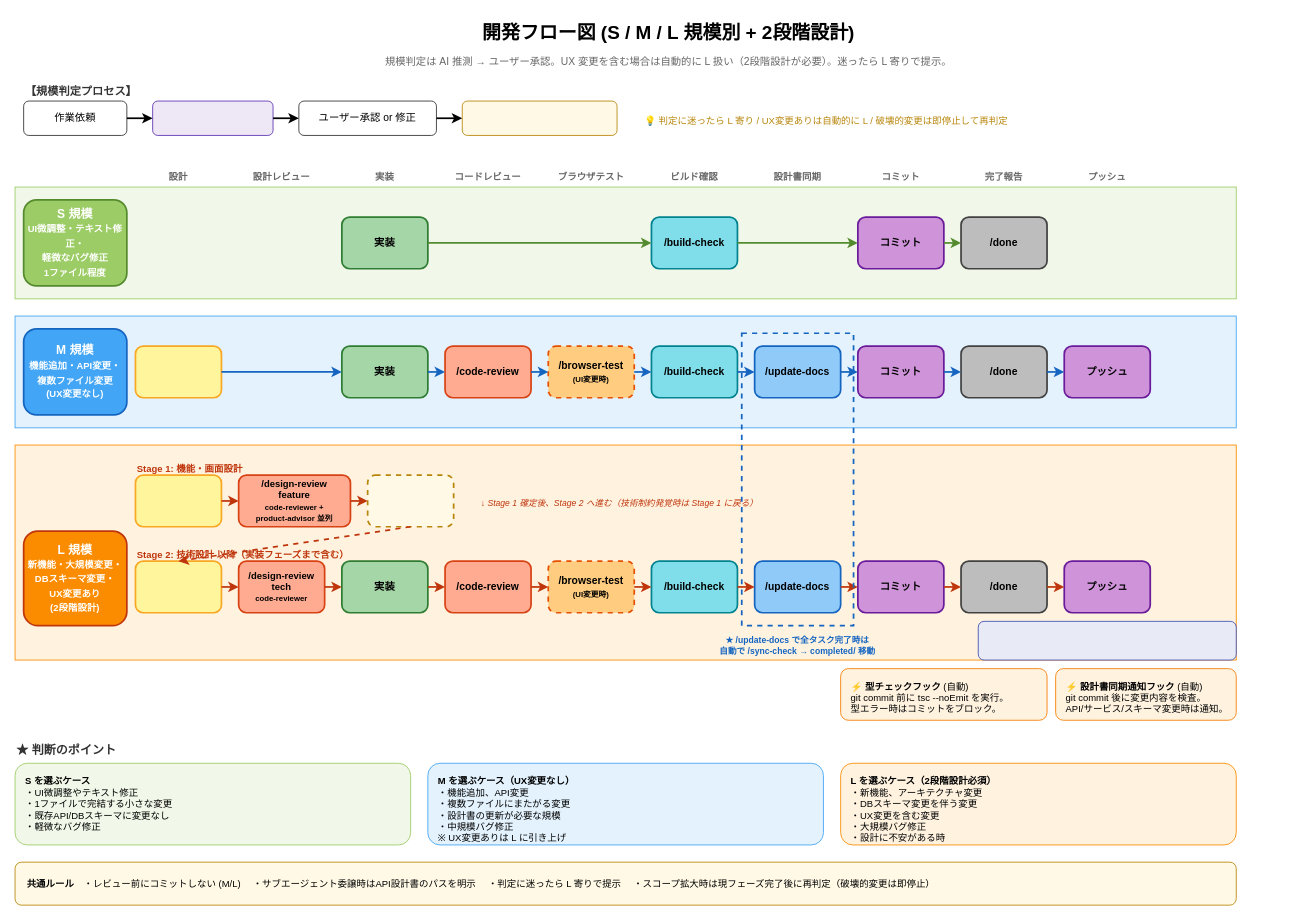
Some shapes in this 1303 by 920 pixel diagram are drawn without their labels. Here are the shapes that lost their labels. From the top down, the centre of each, then its label:
point (212, 117): AI が S/M/L 推測
point (539, 117): 規模確定 → 対応フローへ
point (178, 371): 設計 (Stage 2 のみ)
point (178, 500): Stage 1 設計 機能・画面 受け入れ条件
point (410, 500): ユーザー承認
point (178, 586): Stage 2 設計 API/DB/サービス フック
point (1106, 640): 🔍 /pre-push-check (プッシュ前・M/L共通) 未プッシュコミットが .doc-sync.md に記録済みか確認
